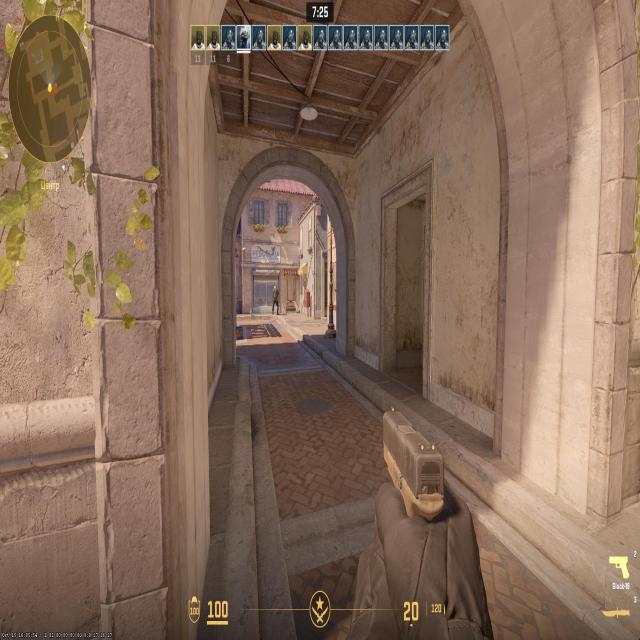CT: (272, 286, 279, 315)
CT_heat: (275, 287, 276, 291)
